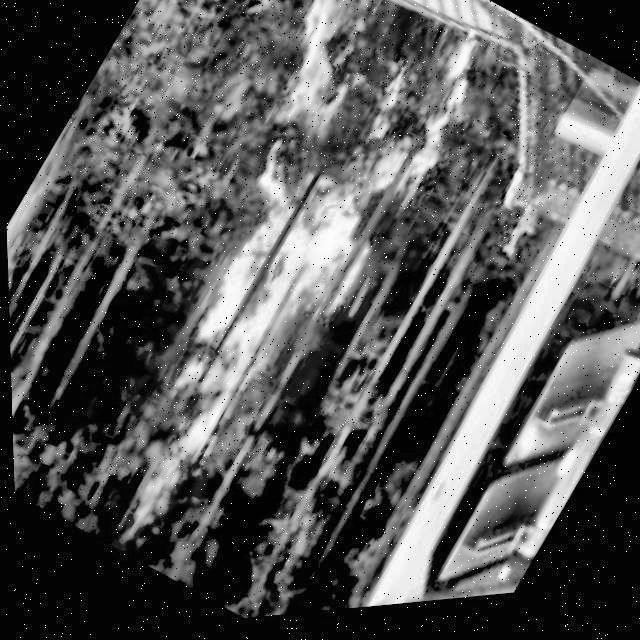Fire: (38, 0, 503, 557)
